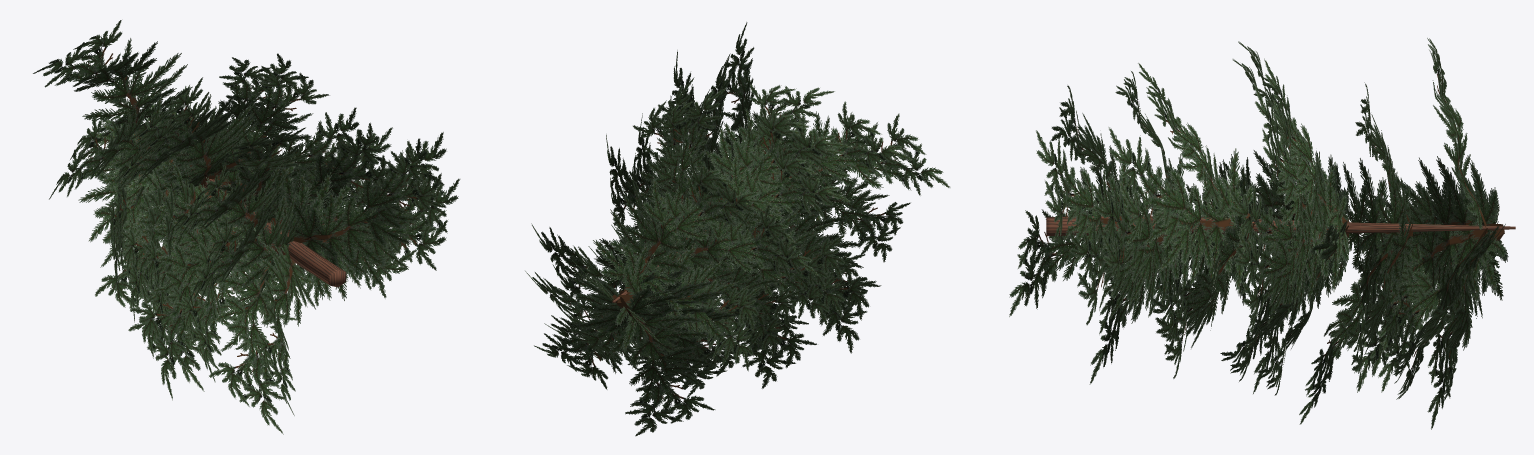
Rendered from NewTree2.fbx.
3 renders of one model, left to right at view 1: azimuth 30°, elevation 25°; view 2: azimuth 150°, elevation 25°; view 3: azimuth 270°, elevation 25°, orthographic. The views are drawn at different scales.
Parts seen in each view (by area): view 1: Tree2; view 2: Tree2; view 3: Tree2.
Boxes of the visible parts, <box> form: Tree2: <box>33,20,460,434</box>; Tree2: <box>525,22,950,436</box>; Tree2: <box>1009,38,1515,429</box>.
Bounding box in the file's own units: 873 × 861 × 1134.
